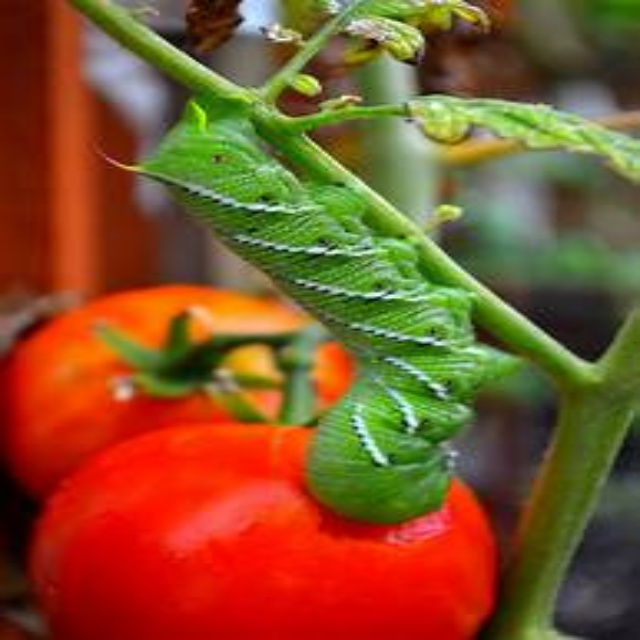tomato: (39, 425, 502, 635), (7, 273, 369, 491)
